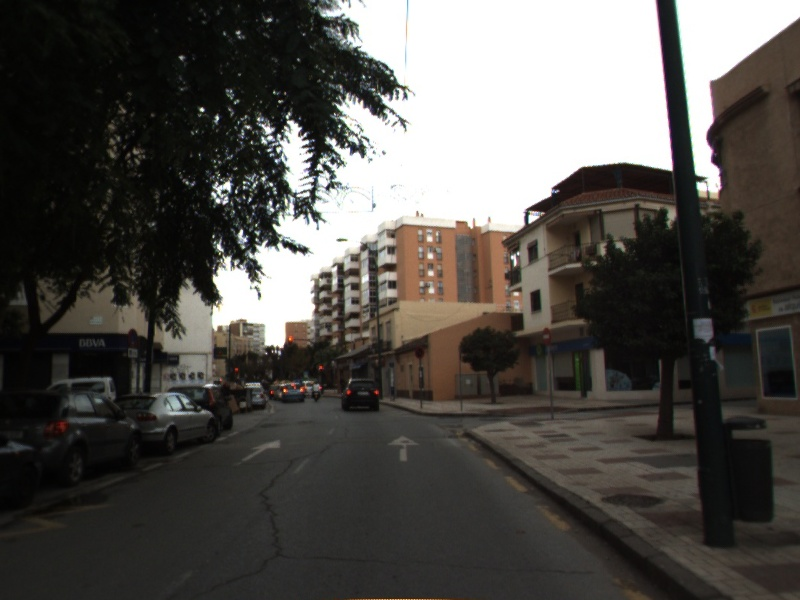STRAIGHT: (238, 437, 283, 464), (385, 433, 422, 463)
